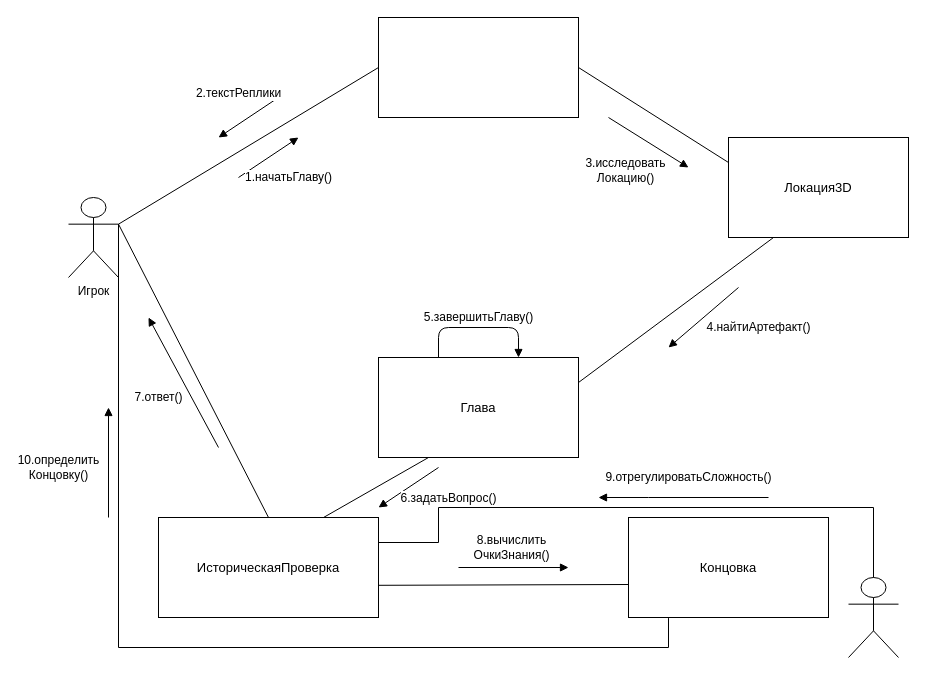
Image size: 934x696. Some labels were removed from this diagram. Here are the shapes that lost their labels. From the top down, the centre of each, then its label:
At (478,67): "Диалог".
At (873,617): "Администратор".
